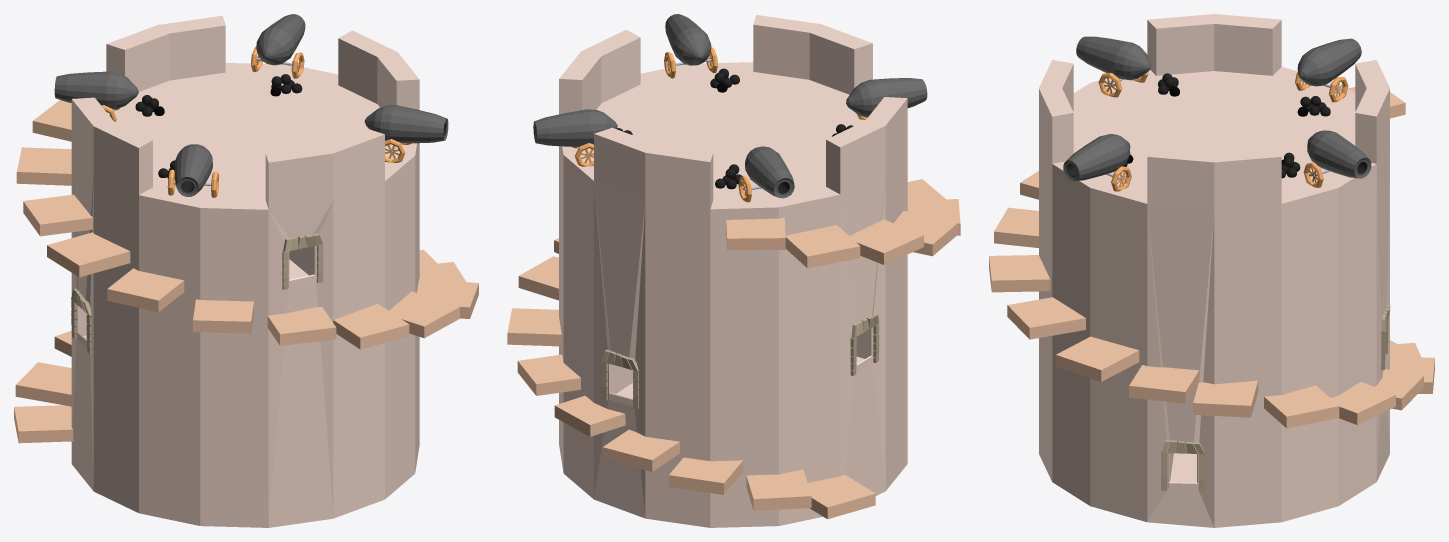
Rendered from Tower03.fbx.
3 renders of one model, left to right at view 1: azimuth 30°, elevation 25°; view 2: azimuth 150°, elevation 25°; view 3: azimuth 270°, elevation 25°, orthographic.
Parts seen in each view (by area): view 1: Tower, Cube.015, Cannon.003, Cannon, Cube.014, Cube.011, Cube.016, Cube, Cube.012, Cube.018, Cube.010, Cube.013 (+6 smaller); view 2: Tower, Cannon.001, Cube.018, Cube.001, Cube.003, Cube.016, Cube.002, Cube, Cannon.002, Cube.006, Cube.005, Cube.017 (+7 smaller); view 3: Tower, Cube.009, Cube.010, Cannon.002, Cube.006, Cannon.003, Cube.008, Cube.011, Cube.007, Cannon.001, Cannon, Cube.005 (+3 smaller).
Boxes of the visible parts, box(x1,y1,x2,y2) form: Tower: box(71, 15, 419, 527); Cube.015: box(47, 232, 130, 277); Cannon.003: box(364, 105, 448, 143); Cannon: box(54, 71, 138, 108); Cube.014: box(107, 268, 184, 312); Cube.011: box(333, 303, 409, 349); Cube.016: box(23, 194, 92, 236); Cube: box(14, 405, 73, 443); Cube.012: box(267, 307, 336, 345); Cube.018: box(16, 147, 71, 185); Cube.010: box(389, 291, 459, 338); Cube.013: box(193, 299, 253, 333); Tower: box(559, 15, 907, 527); Cannon.001: box(533, 109, 617, 146); Cube.018: box(785, 225, 860, 268); Cube.001: box(746, 469, 811, 510); Cube.003: box(602, 429, 679, 471); Cube.016: box(849, 219, 923, 264); Cube.002: box(669, 457, 743, 494); Cube: box(807, 474, 875, 519); Cannon.002: box(846, 78, 927, 117); Cube.006: box(507, 308, 561, 346); Cube.005: box(517, 354, 580, 395); Cube.017: box(726, 217, 785, 250); Tower: box(1039, 14, 1390, 527); Cube.009: box(1056, 336, 1139, 381); Cube.010: box(1007, 297, 1085, 339); Cannon.002: box(1076, 36, 1150, 80); Cube.006: box(1264, 385, 1339, 428); Cannon.003: box(1063, 134, 1130, 181); Cube.008: box(1129, 365, 1199, 403); Cube.011: box(989, 255, 1050, 292); Cube.007: box(1193, 380, 1258, 417); Cannon.001: box(1307, 130, 1371, 178); Cannon: box(1297, 38, 1361, 86); Cube.005: box(1330, 382, 1395, 424).
Bounding box in the file's own units: 311 × 274 × 303.
